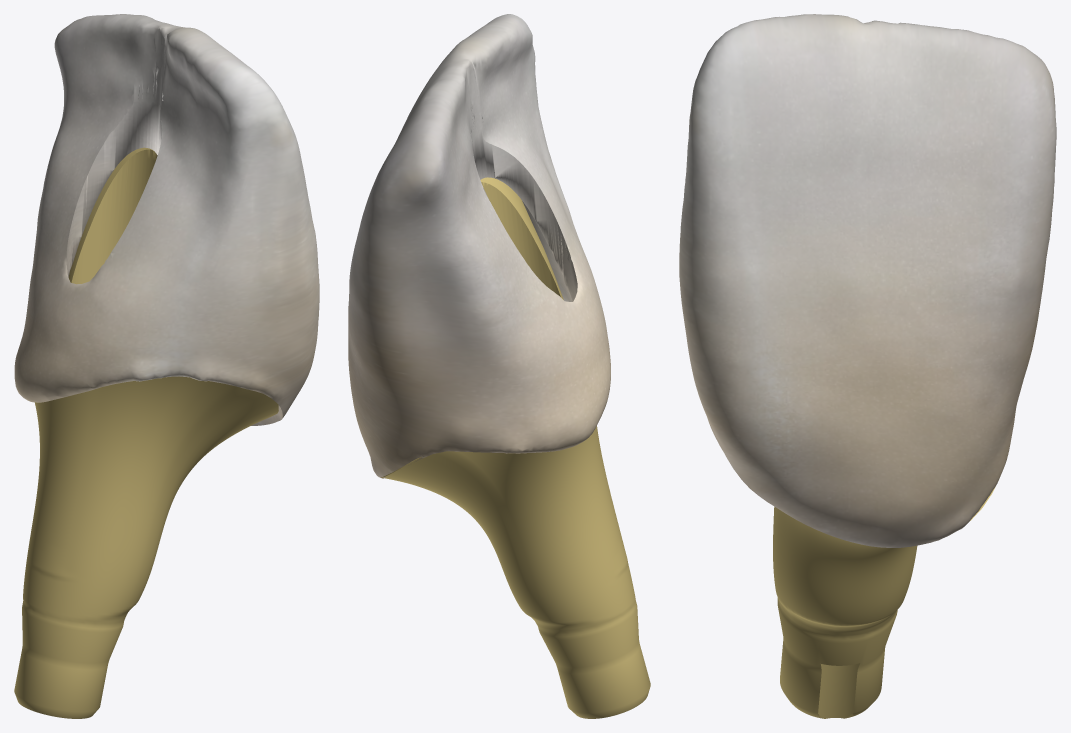
Rendered from last.glb.
3 renders of one model, left to right at view 1: azimuth 30°, elevation 25°; view 2: azimuth 150°, elevation 25°; view 3: azimuth 270°, elevation 25°, orthographic. The views are drawn at different scales.
Visible parts, largest first — view 1: Anterior Zirconia S_R full contour crown_cad, Abutment S_R Anterior Crown_cad (1).003, Anterior Zirconia S_R full contour crown_cad.004; view 2: Anterior Zirconia S_R full contour crown_cad, Abutment S_R Anterior Crown_cad (1).003, Anterior Zirconia S_R full contour crown_cad.004; view 3: Anterior Zirconia S_R full contour crown_cad, Abutment S_R Anterior Crown_cad (1).003.
Boxes of the visible parts, box(x1,y1,x2,y2) form: Anterior Zirconia S_R full contour crown_cad: box(14, 14, 319, 417); Abutment S_R Anterior Crown_cad (1).003: box(14, 147, 278, 718); Anterior Zirconia S_R full contour crown_cad.004: box(66, 101, 282, 425); Anterior Zirconia S_R full contour crown_cad: box(348, 14, 610, 478); Abutment S_R Anterior Crown_cad (1).003: box(381, 177, 650, 718); Anterior Zirconia S_R full contour crown_cad.004: box(472, 129, 577, 301); Anterior Zirconia S_R full contour crown_cad: box(679, 14, 1056, 547); Abutment S_R Anterior Crown_cad (1).003: box(773, 486, 995, 718).
Size of the model in its own units: 8.25 by 19.29 by 8.68.
2 materials, 1 textured.
